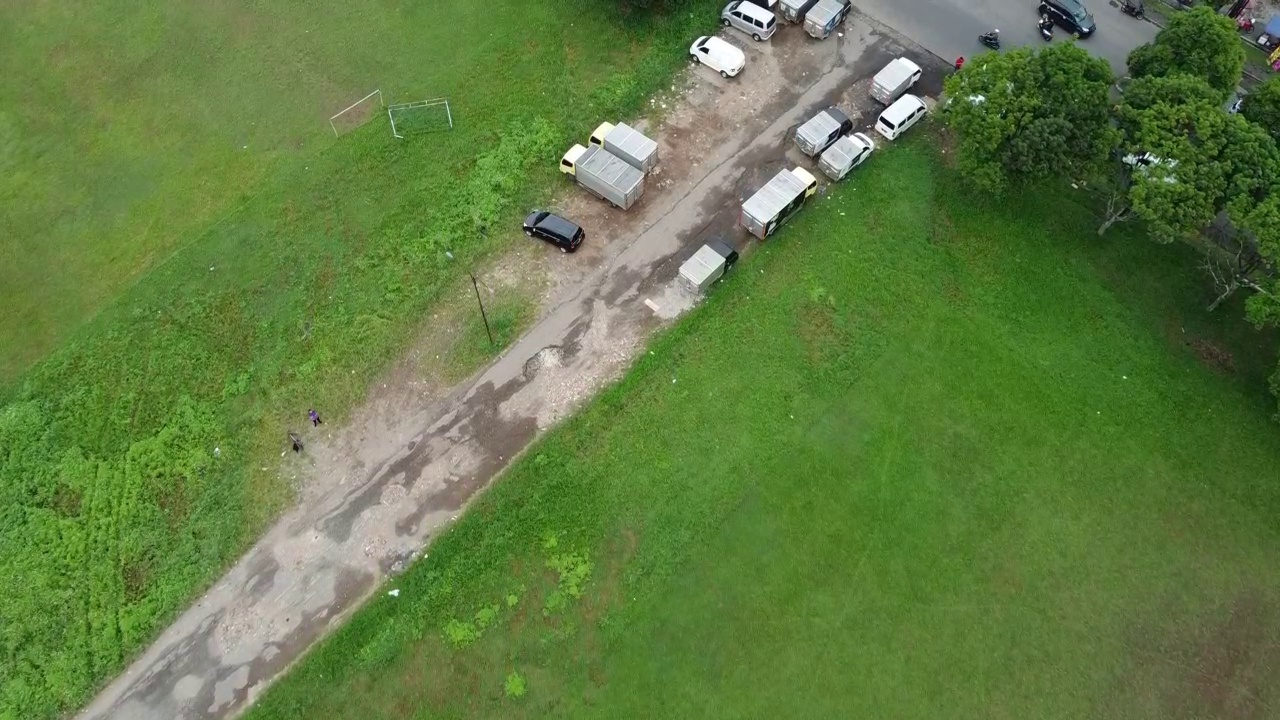mobil: (518, 205, 591, 256), (687, 30, 754, 82), (720, 2, 780, 46), (874, 96, 934, 139), (1038, 1, 1096, 43)
